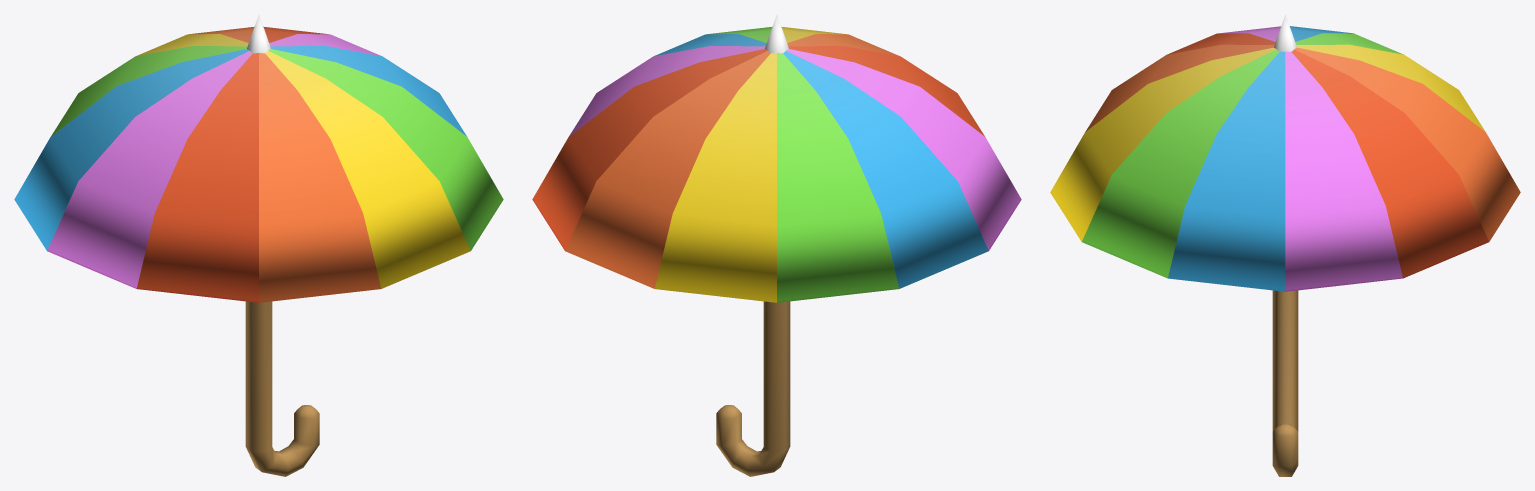
The model's file is ENV2010041.fbx.
3 renders of one model, left to right at view 1: azimuth 30°, elevation 25°; view 2: azimuth 150°, elevation 25°; view 3: azimuth 270°, elevation 25°, orthographic. The views are drawn at different scales.
Parts seen in each view (by area): view 1: smENV2010041; view 2: smENV2010041; view 3: smENV2010041.
Boxes of the visible parts, left/top/right/bottom form: smENV2010041: left=14, top=14, right=503, bottom=476; smENV2010041: left=532, top=14, right=1021, bottom=476; smENV2010041: left=1050, top=14, right=1520, bottom=476.
Size of the model in its own units: 59.75 by 62.82 by 59.75.
1 material, 1 textured.
